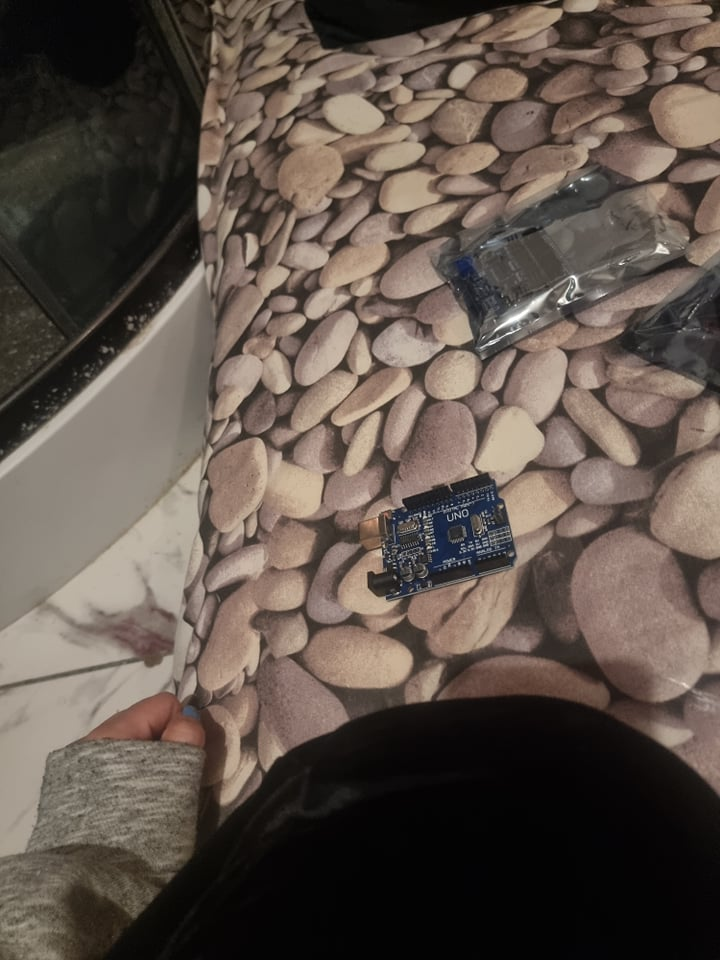UNO R3: (358, 471, 521, 600)
